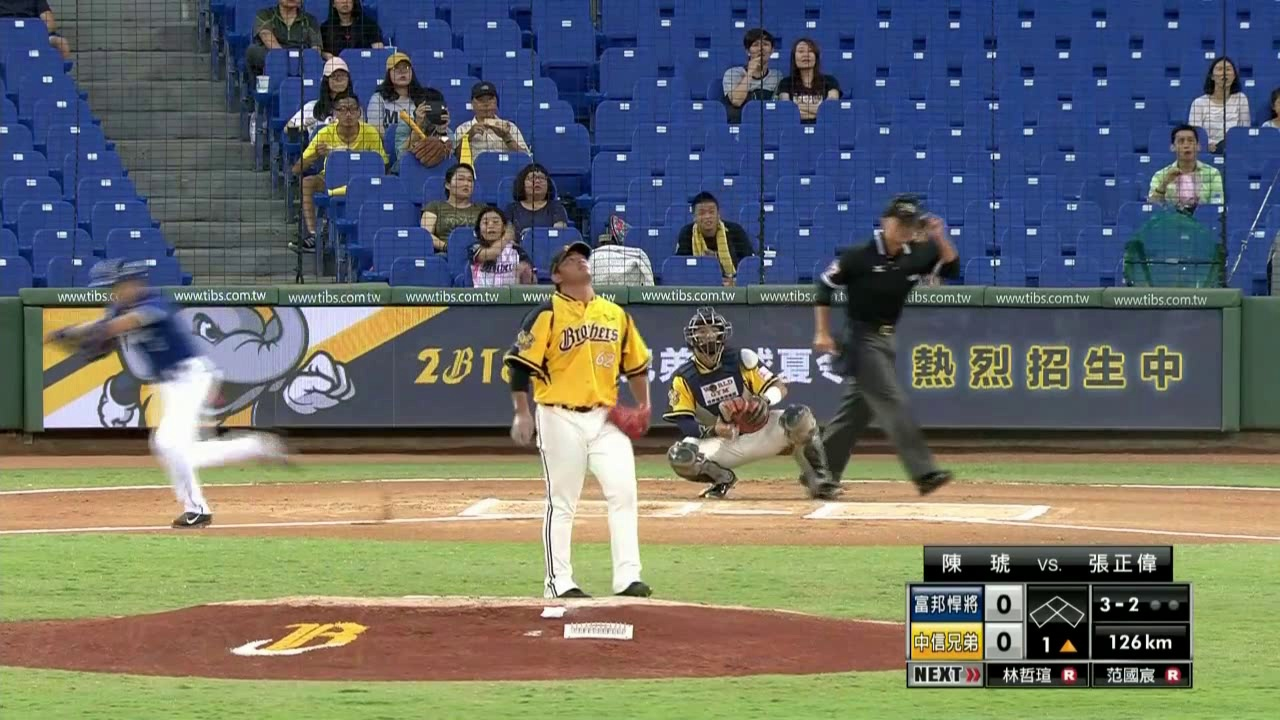base: (1028, 591, 1085, 627)
bat: (826, 179, 885, 269)
out: (1146, 595, 1181, 612)
score1: (984, 585, 1022, 621)
score2: (984, 623, 1023, 658)
session: (1037, 634, 1080, 654)
strikeball: (1096, 594, 1141, 613)
total: (1109, 628, 1159, 651)
